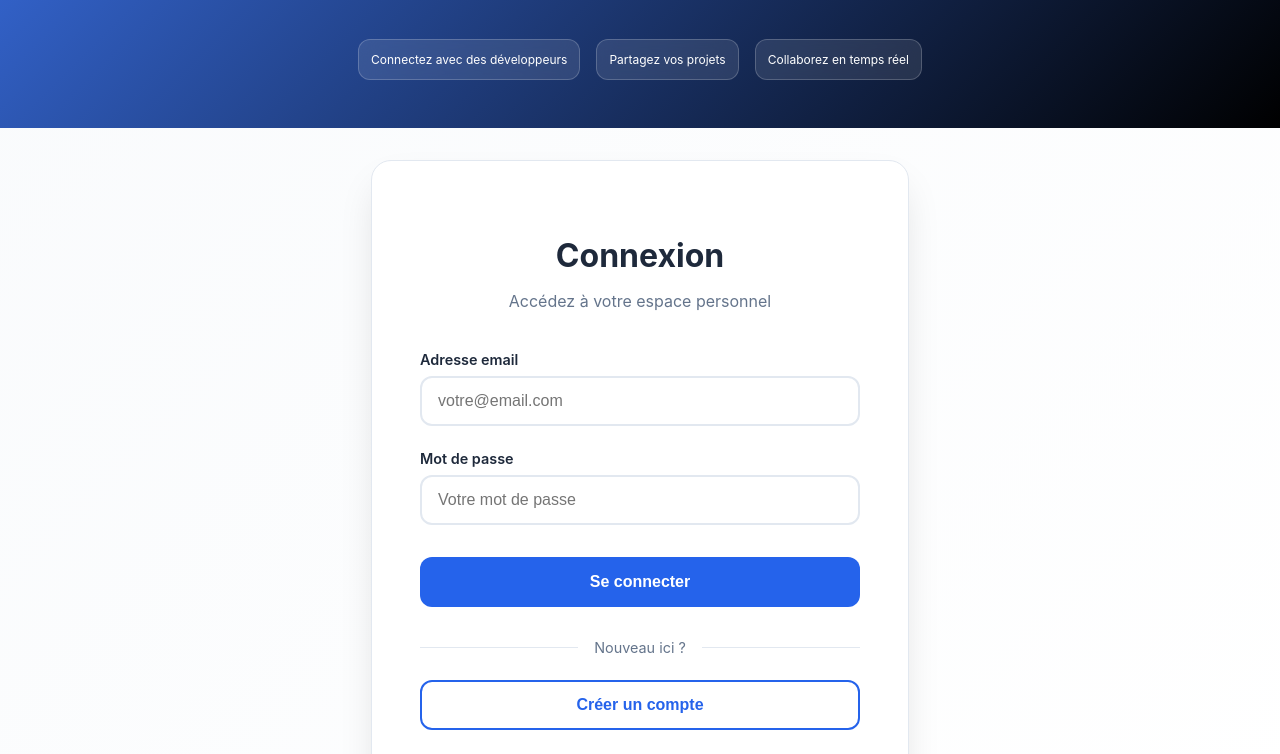
Test case: Login Component › Validation › email="test@example.com" password="" → "Veuillez remplir tous les champs"
This screenshot has width=1280, height=754.
(page scrolled)
Step 1. Type "test@example.com" into the field labelled "Adresse email" → (640, 400), box [420,376,860,426]
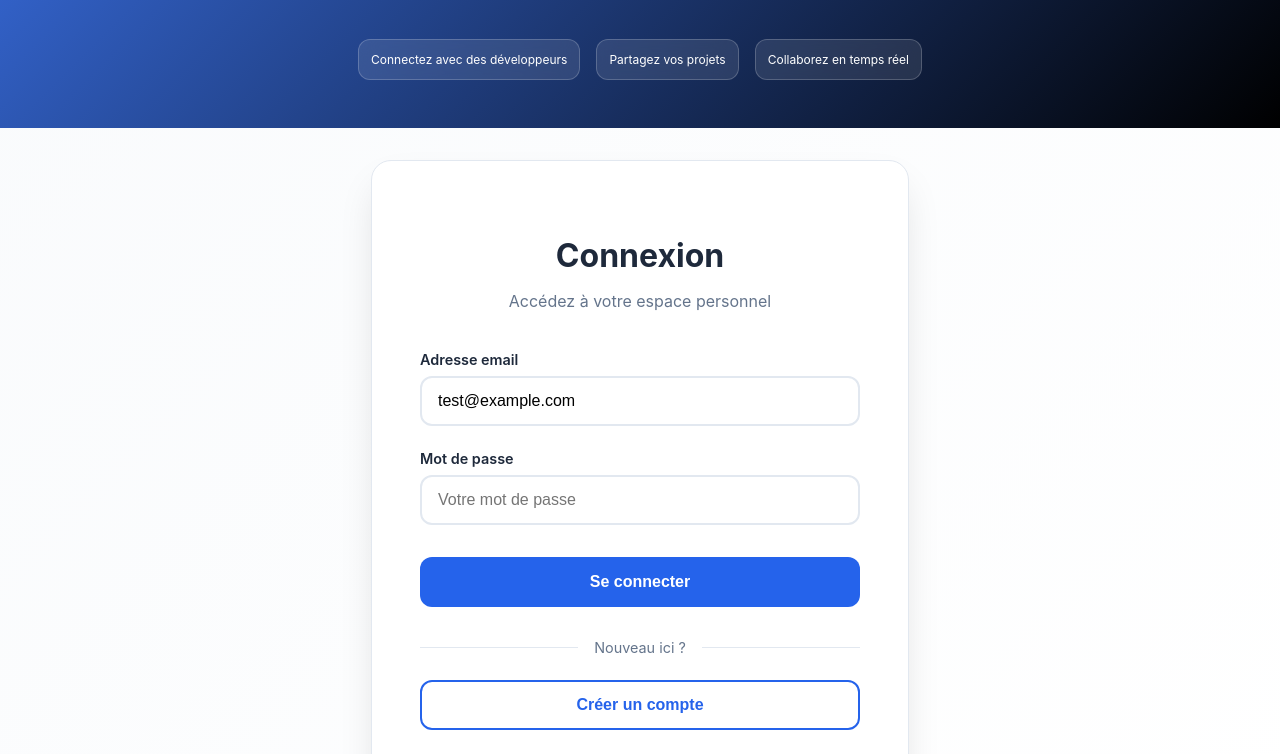
Step 2. Click the button "Se connecter" → (640, 582), box [420,556,860,606]
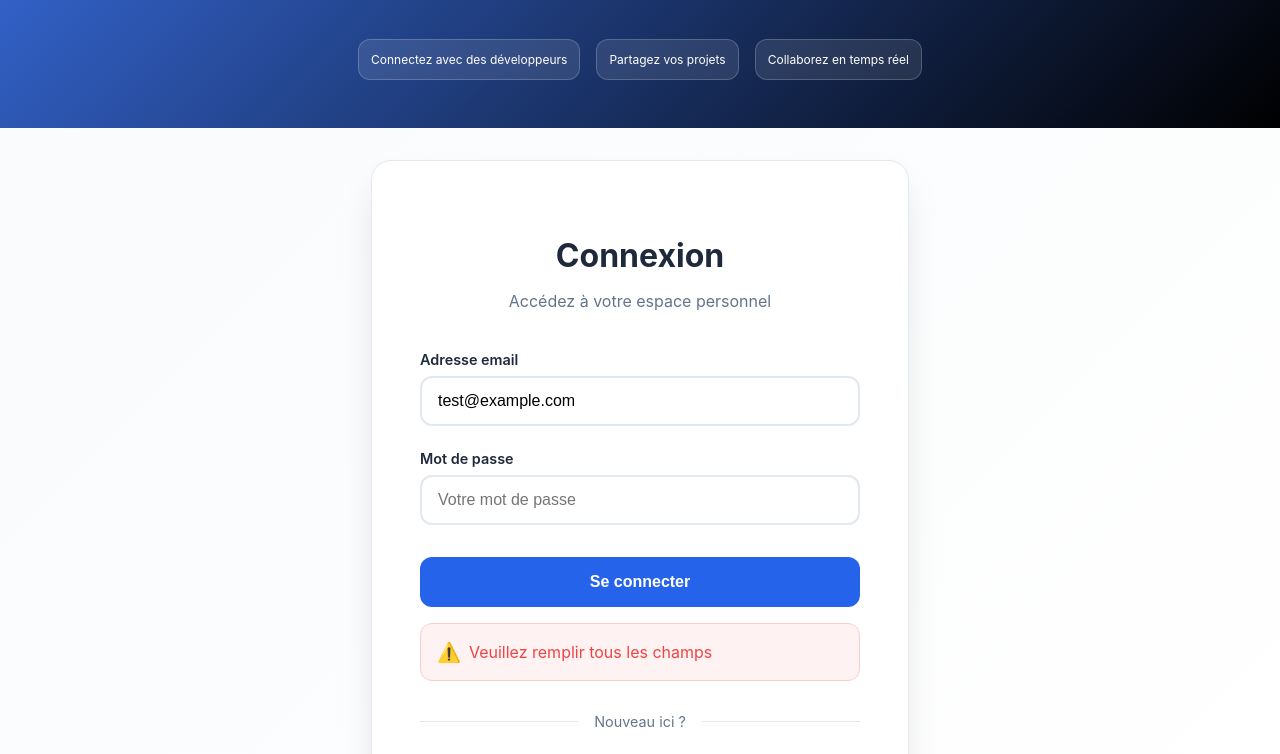
Result: the text "Veuillez remplir tous les champs" is shown at [469,642,712,662]
